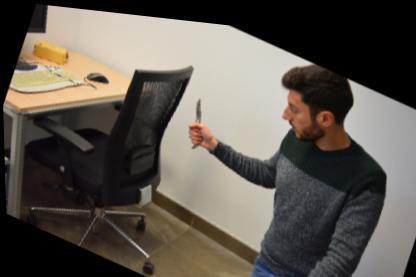knife: (178, 87, 216, 147)
